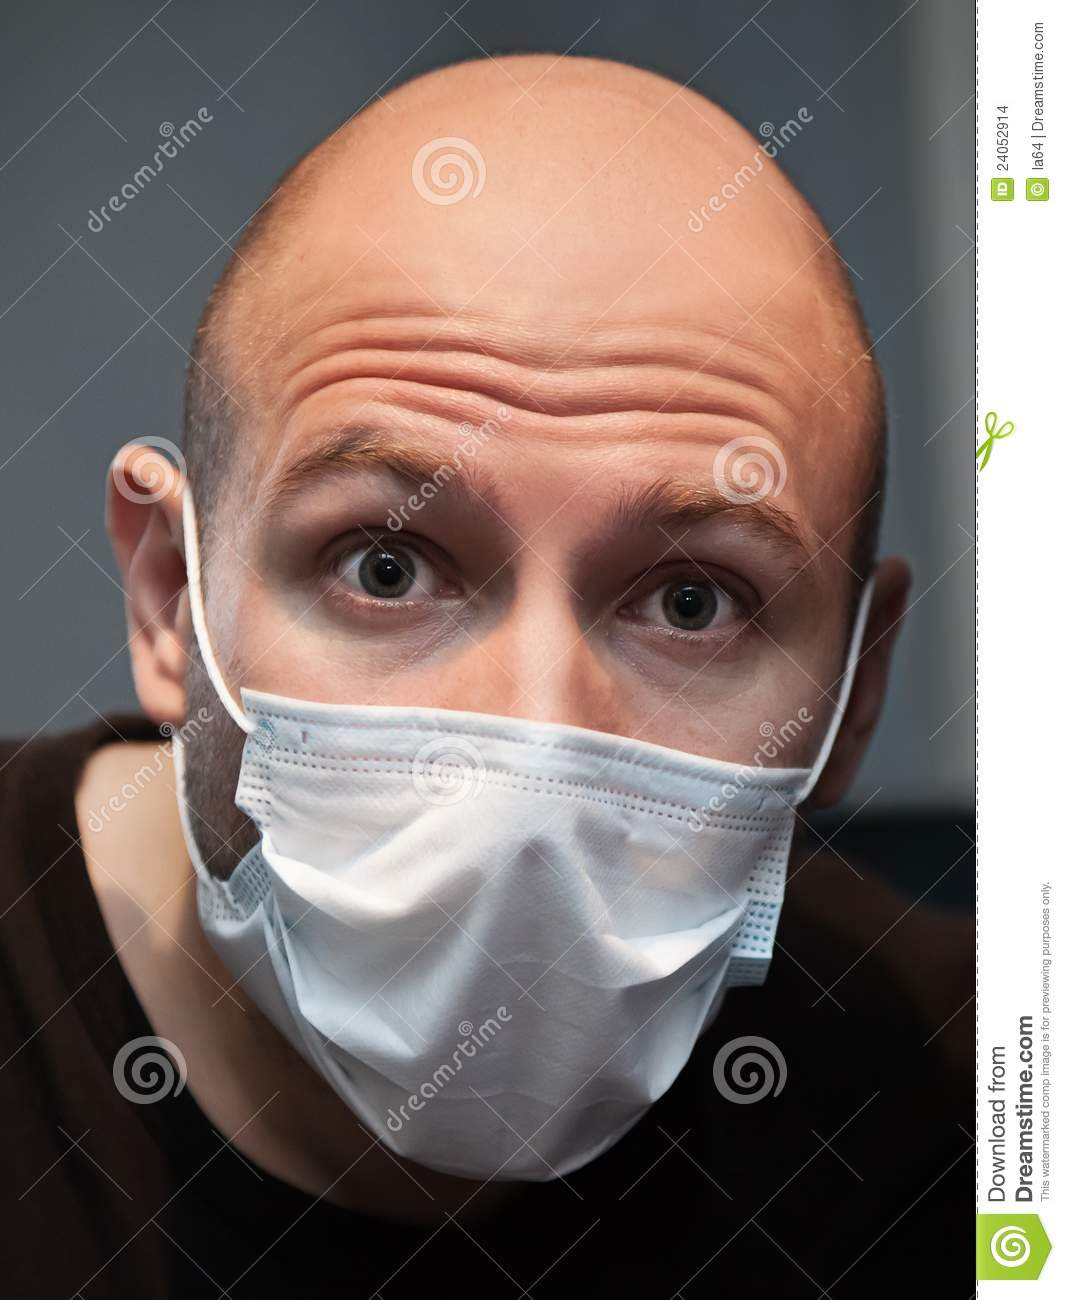mask: (196, 691, 800, 1176)
